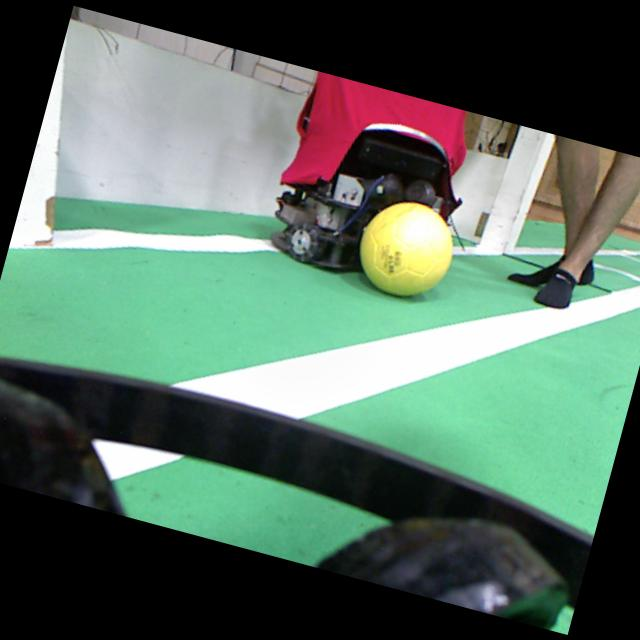ball: (359, 202, 451, 295)
goal: (479, 125, 553, 251)
